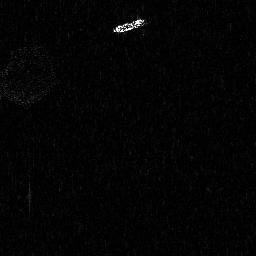ship: (112, 17, 146, 32)
